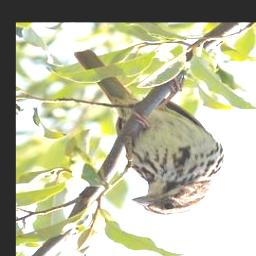Sparrow: (72, 50, 223, 216)
